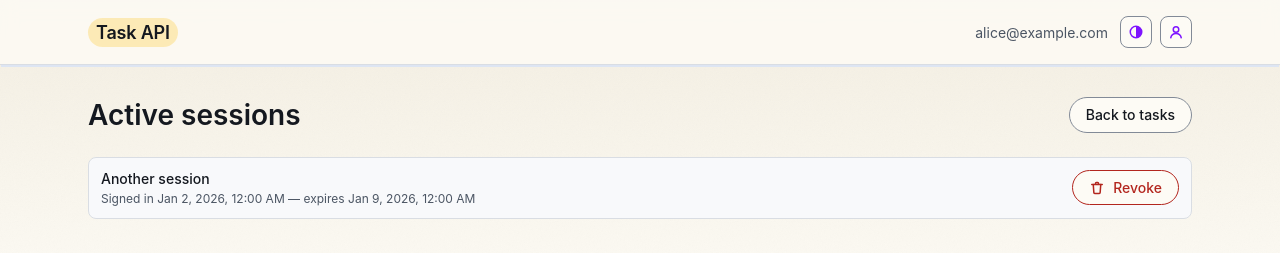
SessionsPage › shows a message when revoking an already-gone session
This screenshot has width=1280, height=253.
Check: the text "Another session" is shown, box [101,170,210,186]
Click the button "Revoke" at point(1126, 188), box [1072,170,1179,205]
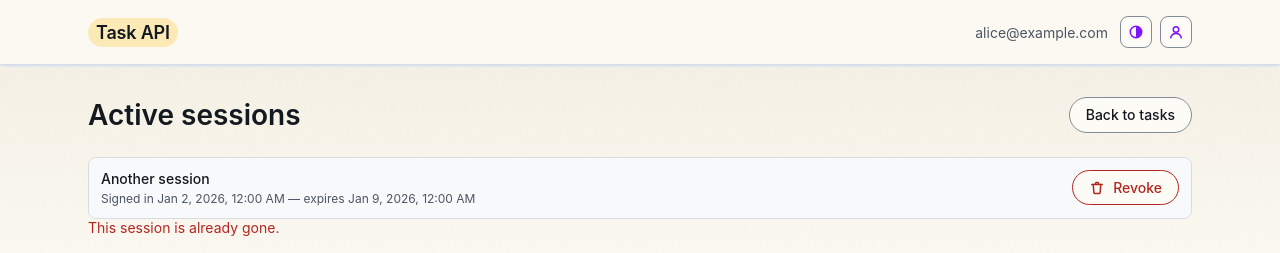
Check: the message shows "already gone", box [88,218,279,236]
